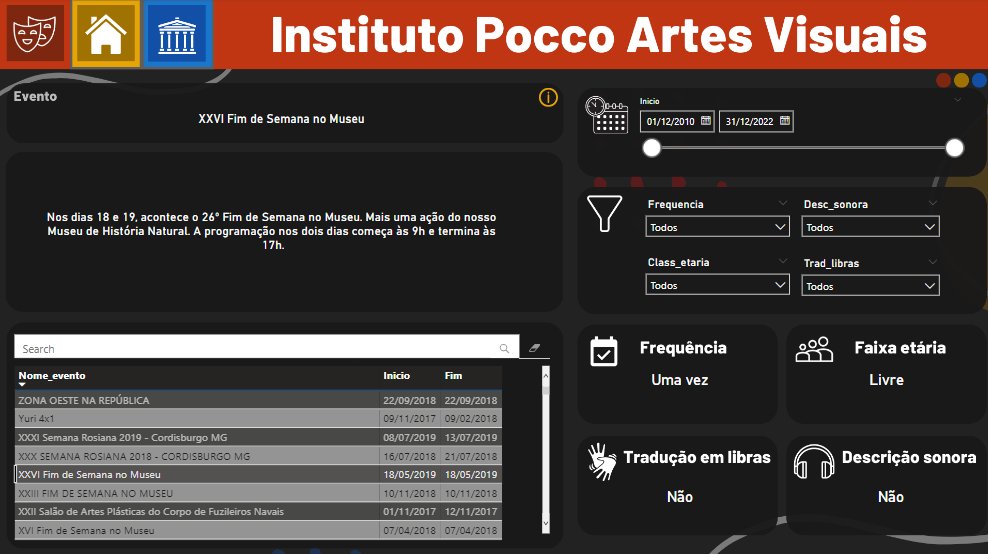

This screenshot's page, from the dashboard's own definition file:
{"tool":"powerbi","page":{"name":"Eventos","canvas":[1280,720],"ordinal":2},"visuals":[{"type":"card","fields":{"Values":["Min(Fato_eventos.Curta_desc)"]},"box":[12.4,206.5,678.5,188.6],"z":0},{"type":"card","fields":{"Values":["Min(Fato_eventos.Nome_evento)"]},"box":[12.4,133.5,700.6,46.8],"z":1000},{"type":"tableEx","fields":{"Values":["Fato_eventos.Nome_evento","Fato_eventos.Inicio","Fato_eventos.Fim"]},"box":[12.4,469.3,700.6,235.4],"z":2000},{"type":"slicer","fields":{"Values":["Fato_eventos.Inicio"]},"box":[813.4,121.1,440.4,99.1],"z":3000},{"type":"slicer","fields":{"Values":["DIM_E_Class_etaria.Class_etaria"]},"box":[823.1,327.6,206.5,66.1],"z":4000},{"type":"slicer","fields":{"Values":["DIM_E_Frequencia.Frequencia"]},"box":[823.1,253.2,206.5,66.1],"z":5000},{"type":"slicer","fields":{"Values":["Fato_eventos.Desc_sonora"]},"box":[1024,253.2,198.2,64.7],"z":6000},{"type":"slicer","fields":{"Values":["Fato_eventos.Trad_libras"]},"box":[1024,328.9,198.2,64.7],"z":7000},{"type":"textFilter25A4896A83E0487089E2B90C9AE57C8A","fields":{"field":["Fato_eventos.Nome_evento"]},"box":[12.4,428,700.6,41.3],"z":8000},{"type":"card","fields":{"Values":["Min(DIM_E_Frequencia.Frequencia)"]},"box":[772.1,469.3,210.6,46.8],"z":9000},{"type":"card","fields":{"Values":["Min(DIM_E_Class_etaria.Class_etaria)"]},"box":[1043.3,469.3,199.6,46.8],"z":10000},{"type":"card","fields":{"Values":["Min(Fato_eventos.Trad_libras)"]},"box":[772.1,620.7,210.6,46.8],"z":11000},{"type":"card","fields":{"Values":["Min(Fato_eventos.Desc_sonora)"]},"box":[1043.3,620.7,210.6,46.8],"z":12000},{"type":"actionButton","box":[90.3,0,92.9,91.6],"z":13000},{"type":"actionButton","box":[183.2,0,92.9,91.6],"z":14000}]}

Visuals, with their boxes in screenshot pixels (x1, y1, x2, y2), scaled from the page's 1280x720 canvas onto the 988x554 screenshot:
card - Min(Fato_eventos.Curta_desc): (10, 159, 533, 304)
card - Min(Fato_eventos.Nome_evento): (10, 103, 550, 139)
tableEx - Fato_eventos.Nome_evento x Fato_eventos.Inicio: (10, 361, 550, 542)
slicer - Fato_eventos.Inicio: (628, 93, 968, 169)
slicer - DIM_E_Class_etaria.Class_etaria: (635, 252, 795, 303)
slicer - DIM_E_Frequencia.Frequencia: (635, 195, 795, 246)
slicer - Fato_eventos.Desc_sonora: (790, 195, 943, 245)
slicer - Fato_eventos.Trad_libras: (790, 253, 943, 303)
textFilter25A4896A83E0487089E2B90C9AE57C8A - Fato_eventos.Nome_evento: (10, 329, 550, 361)
card - Min(DIM_E_Frequencia.Frequencia): (596, 361, 759, 397)
card - Min(DIM_E_Class_etaria.Class_etaria): (805, 361, 959, 397)
card - Min(Fato_eventos.Trad_libras): (596, 478, 759, 514)
card - Min(Fato_eventos.Desc_sonora): (805, 478, 968, 514)
actionButton: (70, 0, 141, 70)
actionButton: (141, 0, 213, 70)
